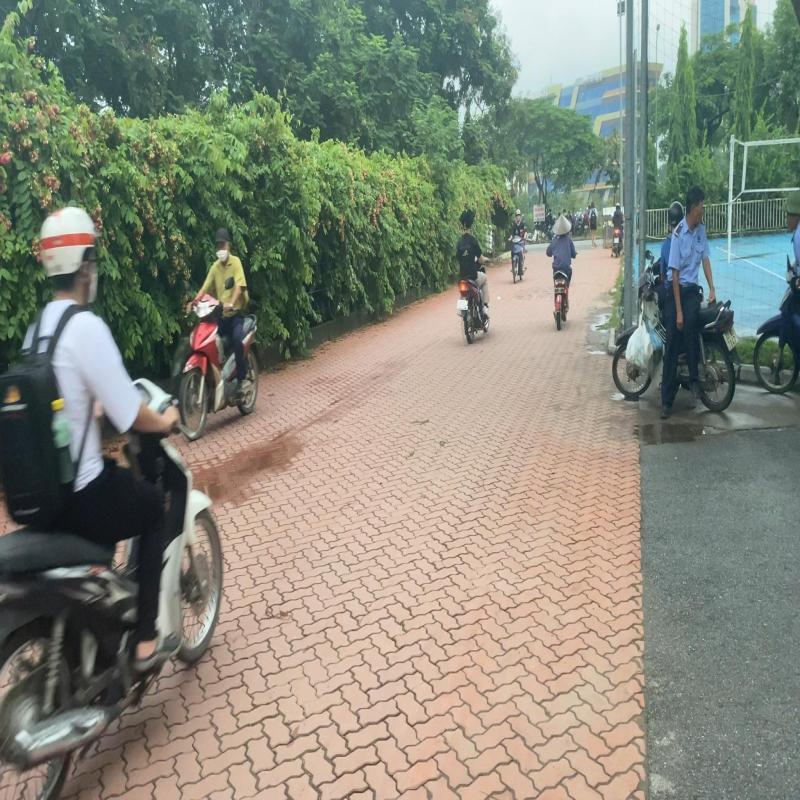licenseplate: (457, 299, 466, 309)
motorcyclist: (454, 209, 494, 344)
nohelmet: (465, 210, 476, 231)
